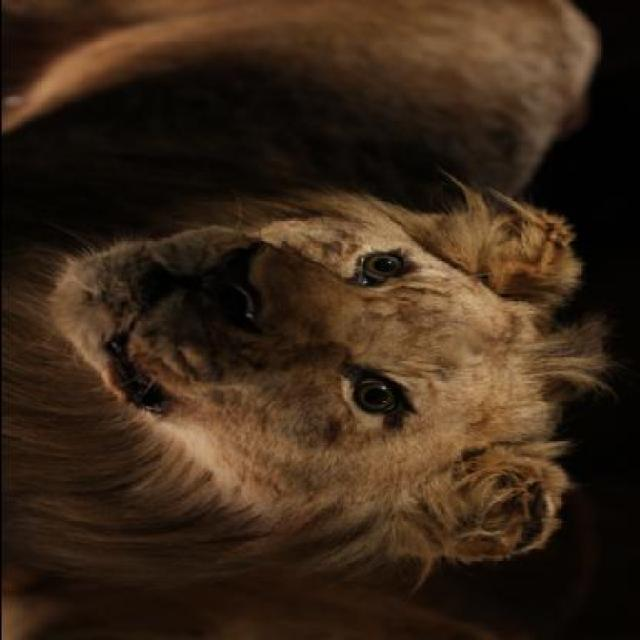Lion: (2, 8, 620, 612)
